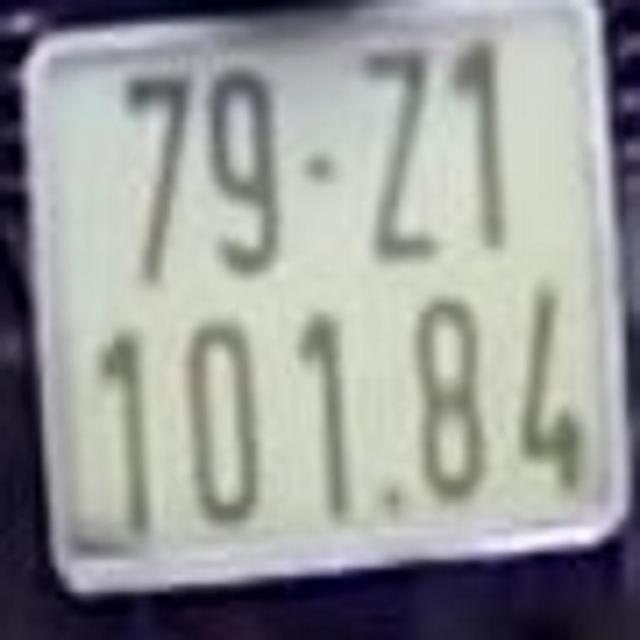0: (184, 315, 261, 520)
1: (448, 33, 525, 256), (87, 322, 156, 532), (290, 306, 352, 520)
4: (510, 276, 590, 496)
7: (117, 70, 192, 276)
8: (409, 294, 496, 504)
9: (203, 62, 282, 276)
Z: (348, 36, 441, 268)
